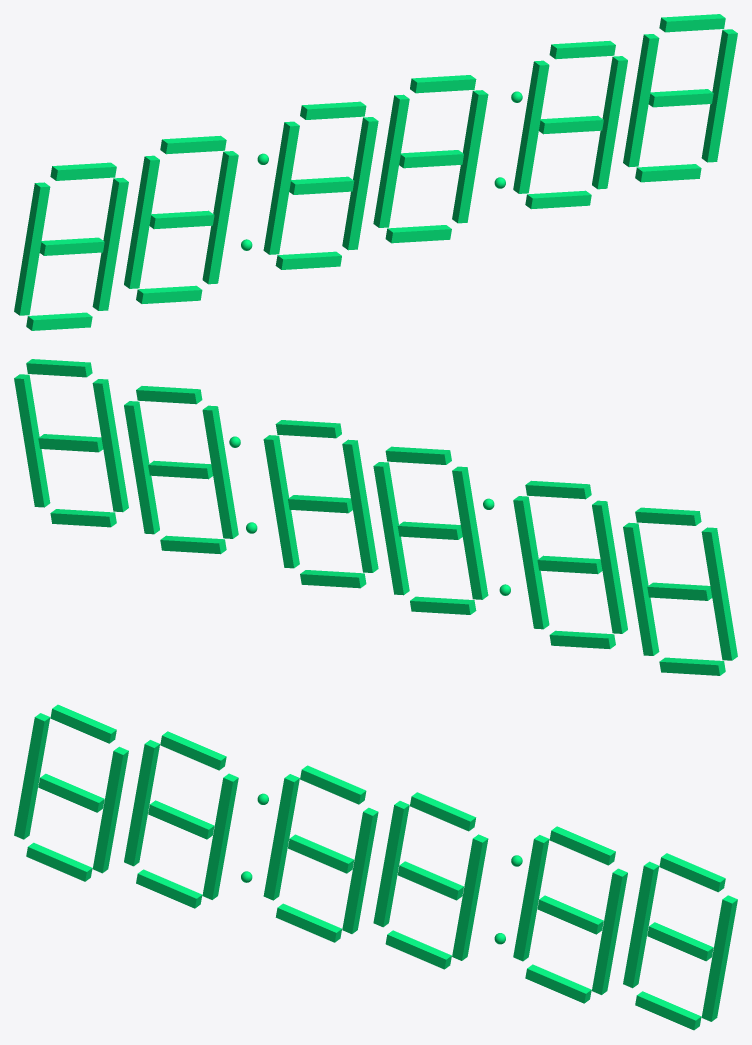
File: 七段數字結構HHMMSS.glb
3 renders of one model, top to bottom at view 1: azimuth 30°, elevation 25°; view 2: azimuth 150°, elevation 25°; view 3: azimuth 330°, elevation 25°, orthographic.
Parts seen in each view (by area): view 1: digit_4_seg_F, digit_0_seg_F, digit_2_seg_F, digit_1_seg_F, digit_5_seg_F, digit_5_seg_B, digit_1_seg_B, digit_0_seg_B, digit_4_seg_B, digit_3_seg_F, digit_3_seg_B, digit_2_seg_B (+30 smaller); view 2: digit_4_seg_F, digit_0_seg_F, digit_2_seg_F, digit_1_seg_F, digit_5_seg_F, digit_5_seg_B, digit_1_seg_B, digit_0_seg_B, digit_4_seg_B, digit_3_seg_F, digit_3_seg_B, digit_2_seg_B (+30 smaller); view 3: digit_5_seg_A, digit_4_seg_D, digit_1_seg_A, digit_0_seg_D, digit_4_seg_A, digit_3_seg_A, digit_2_seg_D, digit_1_seg_D, digit_3_seg_G, digit_3_seg_D, digit_2_seg_G, digit_2_seg_A (+30 smaller).
Part boxes in pixels (bbox=[...]): digit_4_seg_F: bbox=[523, 60, 549, 129]; digit_0_seg_F: bbox=[24, 182, 50, 251]; digit_2_seg_F: bbox=[274, 121, 299, 190]; digit_1_seg_F: bbox=[134, 155, 159, 224]; digit_5_seg_F: bbox=[633, 34, 659, 102]; digit_5_seg_B: bbox=[712, 29, 737, 98]; digit_1_seg_B: bbox=[213, 151, 238, 219]; digit_0_seg_B: bbox=[103, 177, 128, 246]; digit_4_seg_B: bbox=[602, 56, 627, 124]; digit_3_seg_F: bbox=[384, 94, 409, 163]; digit_3_seg_B: bbox=[462, 90, 488, 158]; digit_2_seg_B: bbox=[353, 117, 378, 185]; digit_4_seg_F: bbox=[202, 405, 228, 474]; digit_0_seg_F: bbox=[701, 527, 727, 596]; digit_2_seg_F: bbox=[452, 466, 477, 535]; digit_1_seg_F: bbox=[592, 500, 617, 569]; digit_5_seg_F: bbox=[92, 379, 118, 447]; digit_5_seg_B: bbox=[14, 374, 39, 443]; digit_1_seg_B: bbox=[513, 496, 538, 564]; digit_0_seg_B: bbox=[623, 522, 648, 591]; digit_4_seg_B: bbox=[124, 401, 149, 469]; digit_3_seg_F: bbox=[342, 439, 367, 508]; digit_3_seg_B: bbox=[263, 435, 289, 503]; digit_2_seg_B: bbox=[373, 462, 398, 530]; digit_5_seg_A: bbox=[659, 853, 725, 892]; digit_4_seg_D: bbox=[525, 964, 591, 1003]; digit_1_seg_A: bbox=[160, 731, 226, 770]; digit_0_seg_D: bbox=[26, 842, 92, 881]; digit_4_seg_A: bbox=[549, 826, 615, 865]; digit_3_seg_A: bbox=[410, 792, 476, 831]; digit_2_seg_D: bbox=[275, 903, 341, 942]; digit_1_seg_D: bbox=[136, 869, 202, 908]; digit_3_seg_G: bbox=[397, 861, 463, 900]; digit_3_seg_D: bbox=[385, 930, 451, 969]; digit_2_seg_G: bbox=[288, 834, 354, 873]; digit_2_seg_A: bbox=[300, 765, 366, 804].
Size of the model in its own units: 719 by 158 by 10.
